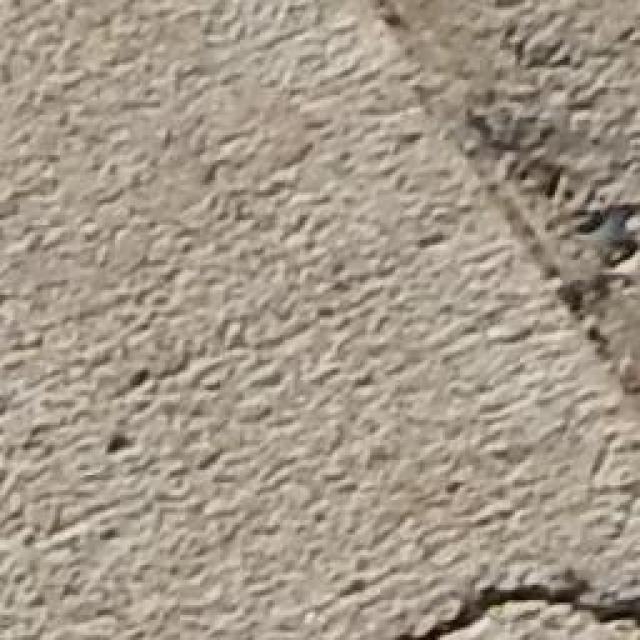concrete-crack: (368, 1, 640, 414), (400, 569, 640, 640)
